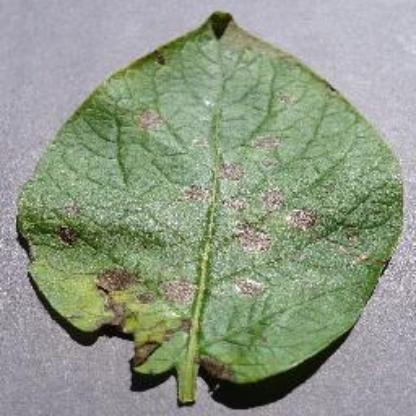Early-Blight: (17, 5, 407, 407)
